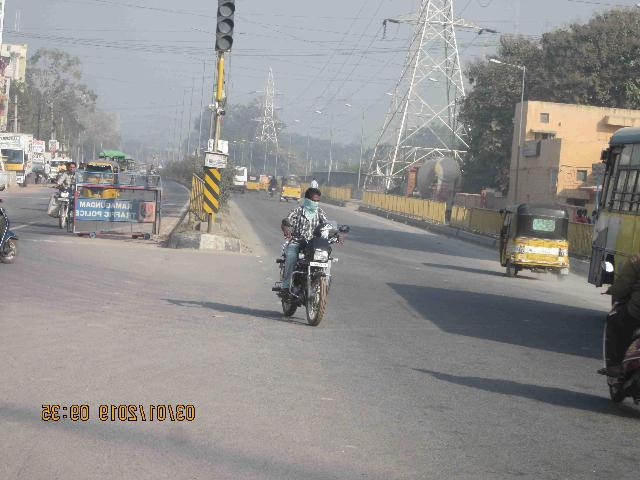motor: (273, 235, 345, 328), (54, 187, 74, 229)
non-helm: (306, 189, 322, 212), (70, 163, 77, 173)
